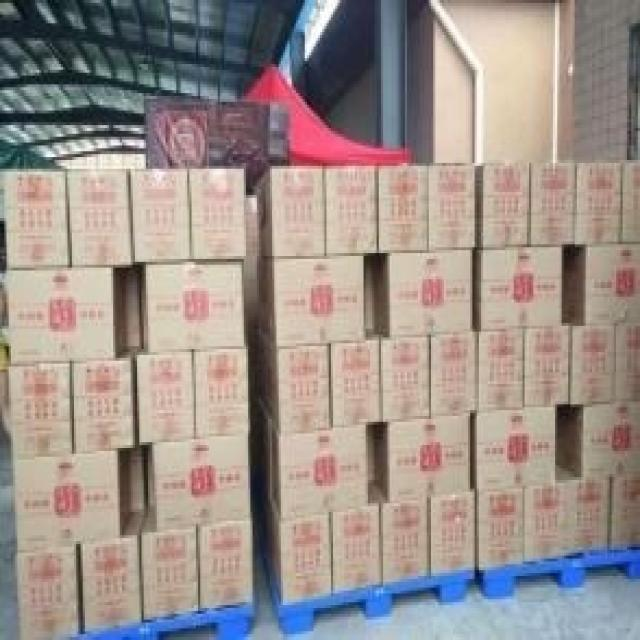box: (7, 271, 126, 364), (13, 451, 122, 550), (263, 416, 368, 518), (146, 436, 250, 532), (257, 256, 366, 343), (146, 265, 246, 352), (377, 413, 472, 500), (255, 329, 331, 431), (381, 253, 472, 337), (472, 247, 562, 329), (475, 407, 557, 495), (81, 515, 144, 628), (263, 500, 331, 599), (216, 102, 290, 192), (2, 172, 70, 268), (255, 166, 324, 259), (15, 541, 81, 637), (144, 509, 198, 620), (67, 172, 131, 265), (9, 364, 72, 457), (72, 358, 135, 451), (566, 404, 640, 480), (131, 172, 192, 262), (568, 247, 640, 323), (198, 518, 255, 611), (137, 355, 194, 445), (144, 99, 216, 169), (192, 169, 246, 259), (196, 349, 250, 439), (327, 166, 379, 256), (477, 166, 529, 250), (379, 163, 427, 253), (381, 337, 431, 422), (333, 503, 381, 591), (427, 163, 475, 250), (333, 340, 381, 425), (431, 489, 477, 576), (381, 500, 429, 582), (525, 326, 573, 407), (479, 329, 525, 413), (479, 486, 525, 570), (575, 160, 620, 244), (529, 166, 577, 244), (431, 335, 477, 416), (570, 326, 614, 404), (525, 483, 568, 561), (568, 477, 610, 556), (610, 474, 640, 553), (614, 326, 640, 401), (120, 451, 144, 532), (122, 268, 141, 349), (623, 163, 640, 241), (366, 259, 377, 332), (248, 195, 257, 259)
